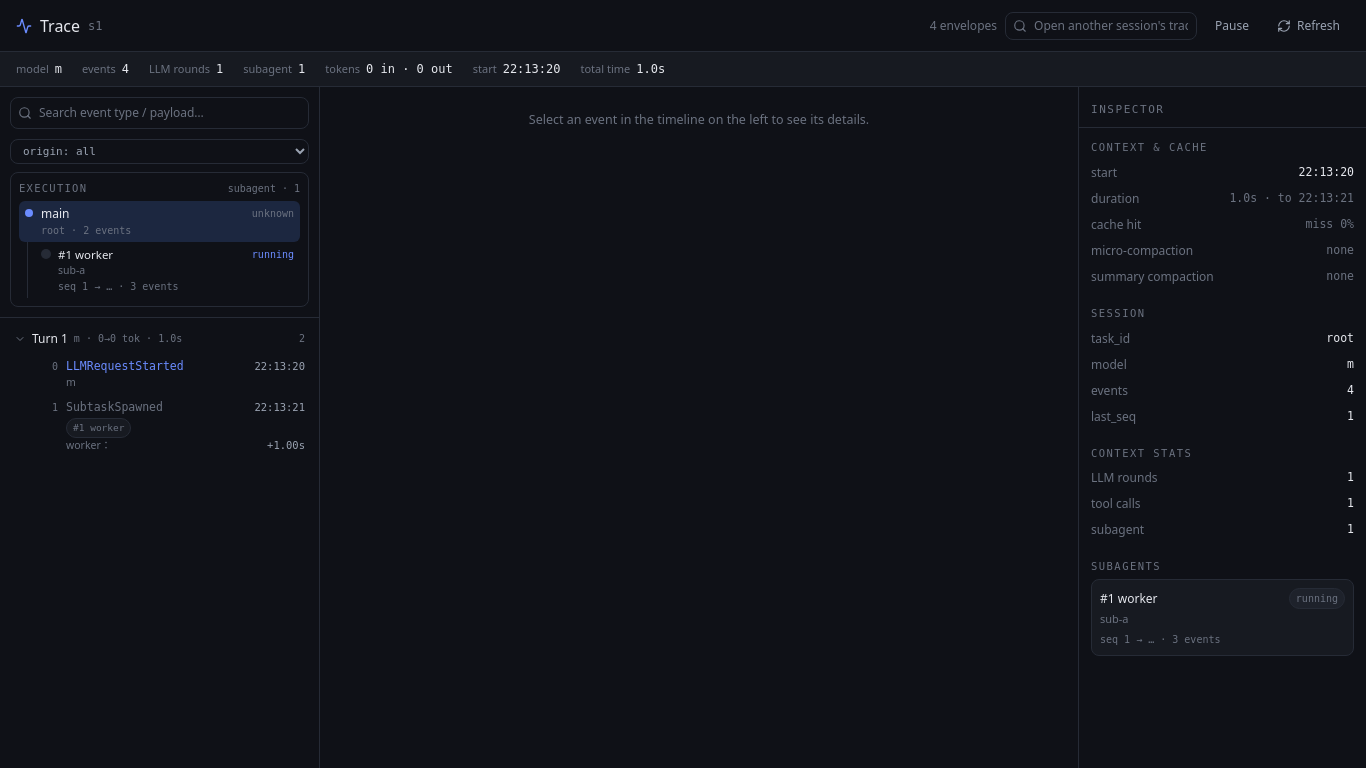
Test case: the trace page › switches the timeline between the root stream and a subagent stream
Check: the text "SubtaskSpawned" is shown, box [66,399,163,416]
Check: the text "ToolResultRecorded" is not shown
Click the button "#1 worker running sub-a seq 1 → … · 3 events": point(86, 254) [36,242,300,298]
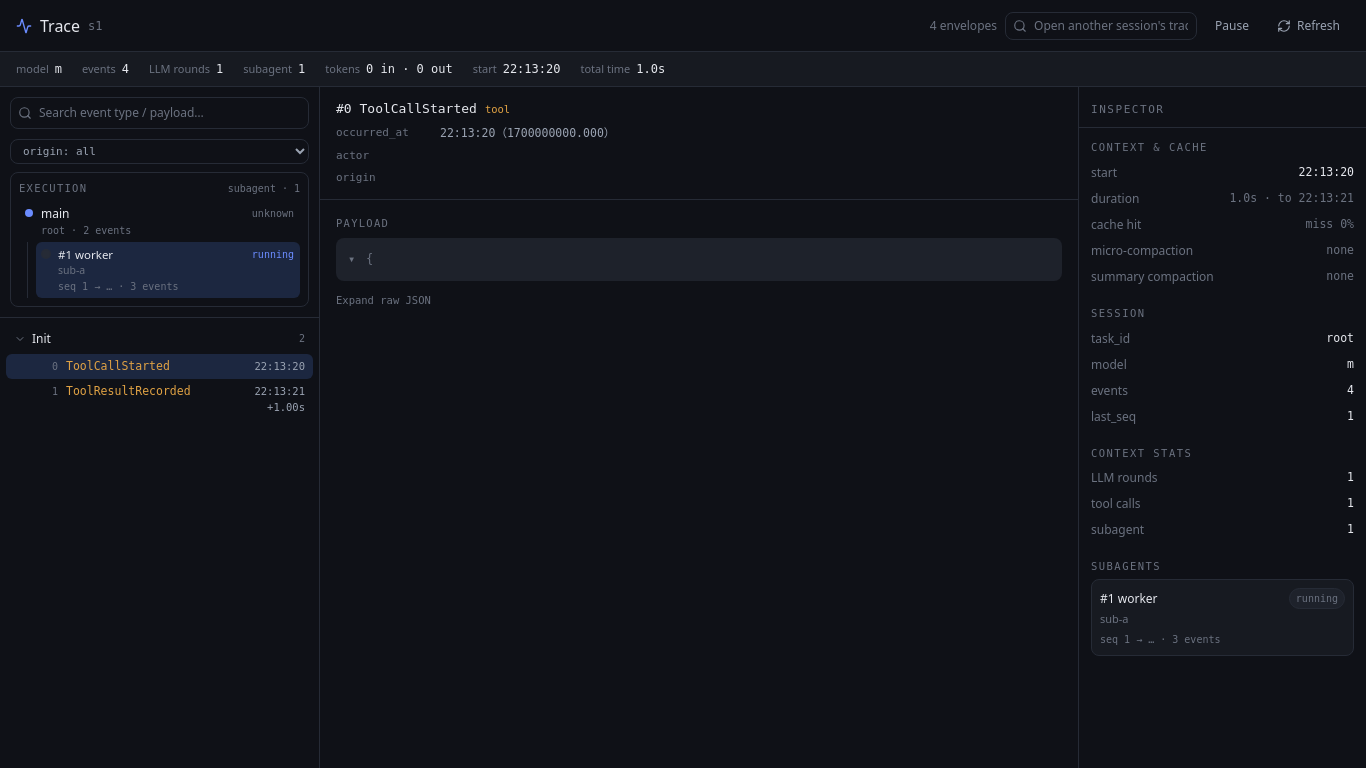
Check: the text "ToolCallStarted" is shown, box [66,358,170,375]
Check: the text "ToolResultRecorded" is shown, box [66,383,191,400]
Check: the button "SubtaskSpawned" is gone
Back to the main stream.
Click the button "main unknown root · 2 events": point(273, 214) [19,201,300,242]
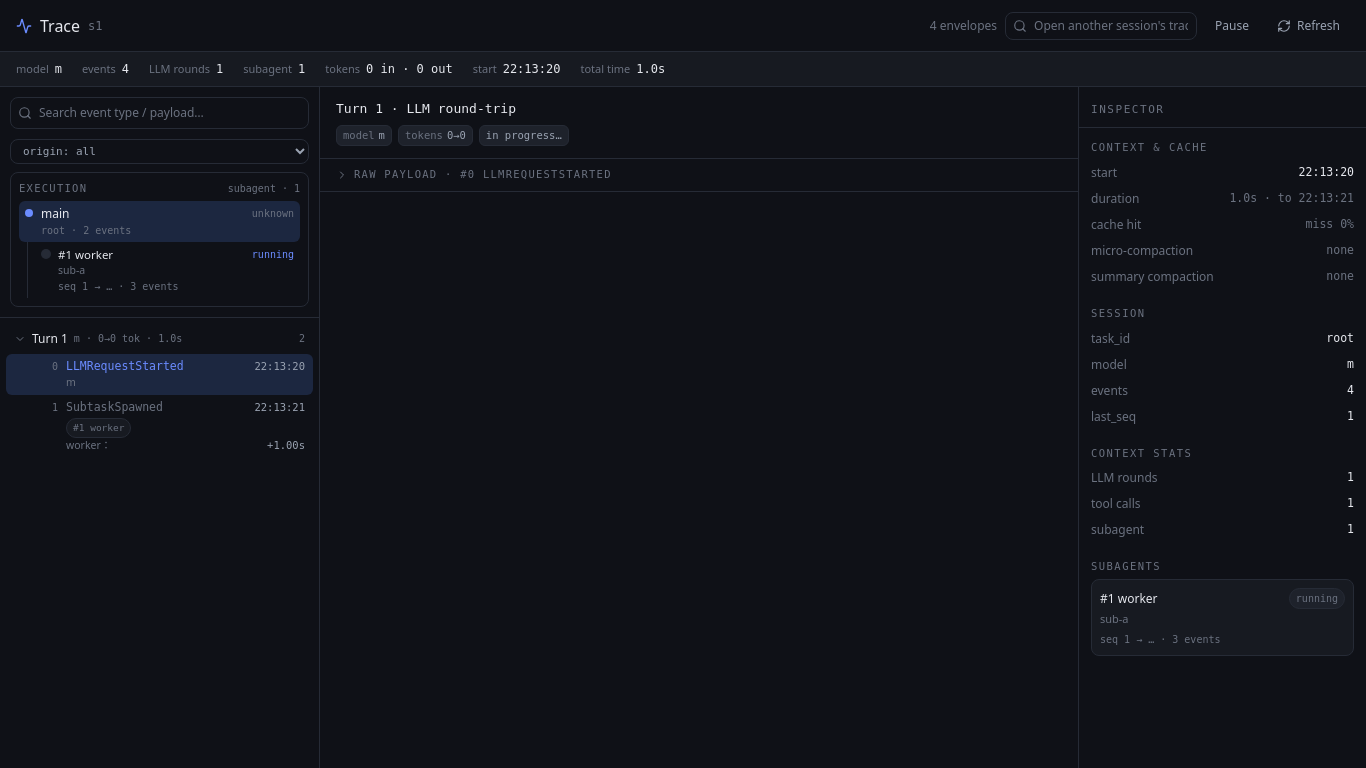
Check: the text "SubtaskSpawned" is shown, box [66,399,163,416]
